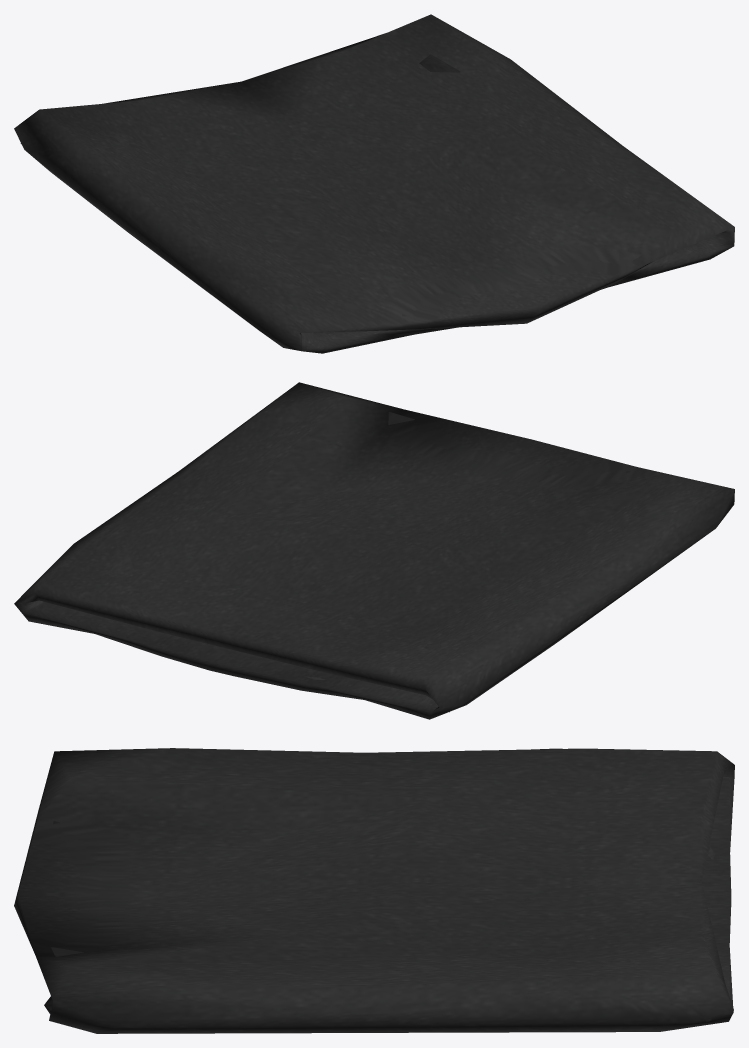
File: YMJ-西装外套.fbx
3 views of the same model, one above another, from view 1: azimuth 30°, elevation 25°; view 2: azimuth 150°, elevation 25°; view 3: azimuth 270°, elevation 25° (orthographic). The views are drawn at different scales.
Visible parts, largest first — view 1: YMJ-西装外套; view 2: YMJ-西装外套; view 3: YMJ-西装外套.
Boxes of the visible parts, box(x1,y1,x2,y2) form: YMJ-西装外套: box(14, 14, 734, 353); YMJ-西装外套: box(14, 382, 734, 719); YMJ-西装外套: box(14, 748, 734, 1033).
Size of the model in its own units: 0.3189 by 0.372 by 0.0335.
